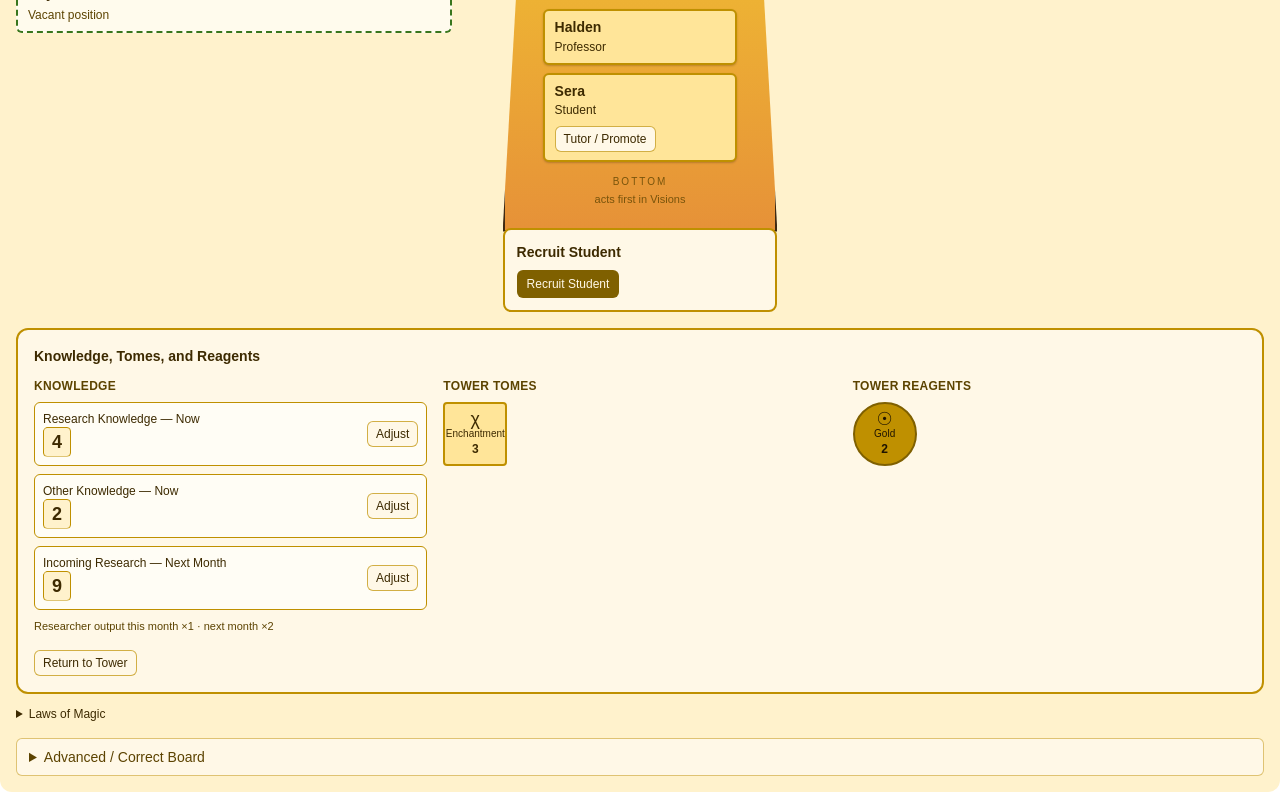
it: Sorcerer surface presentation › lets a Wizard return a Tome or Reagent the Tower does not hold
Later steps or results of the test are not shown.
(page scrolled)
What coordinates should you click on to do the following:
click the button "Return to Tower"
I would click on:
 (85, 663)
Its box is [34,650,136,676].
(page scrolled)
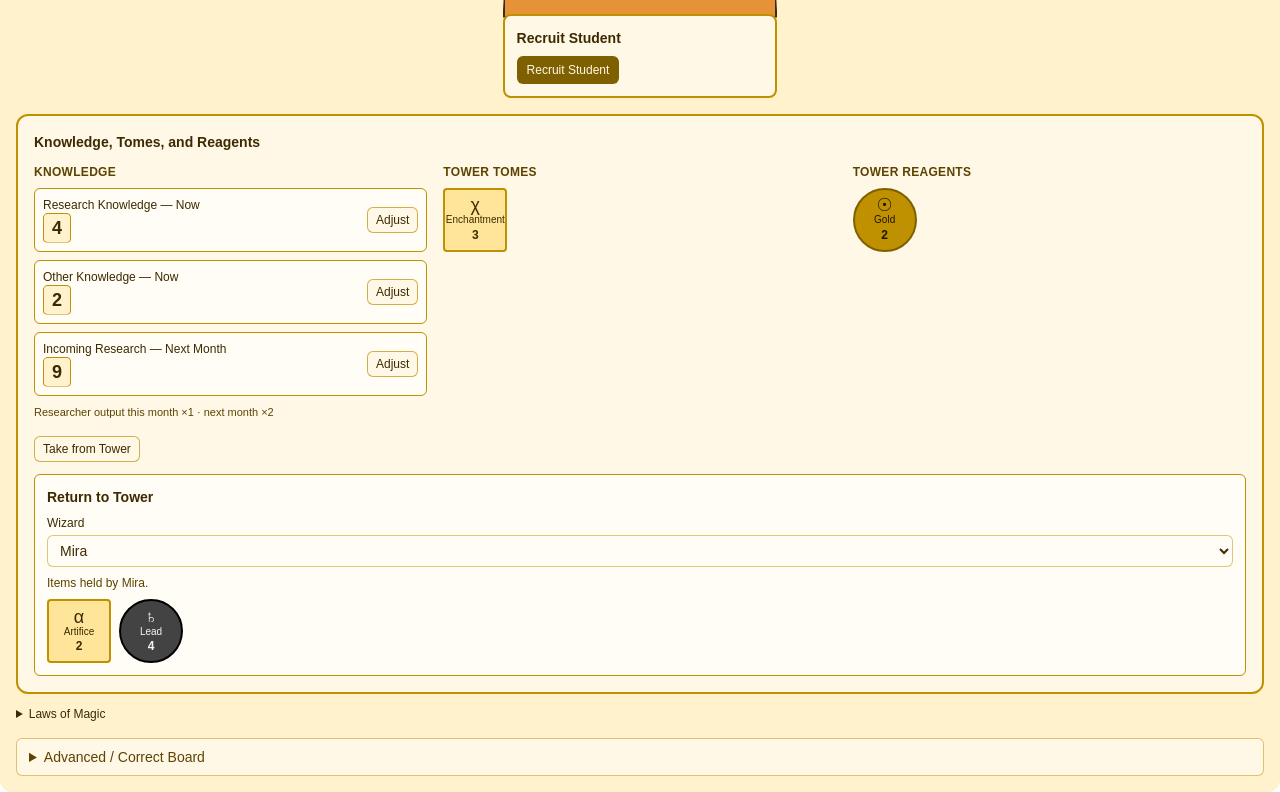
expect the button "χ Enchantment 3" is shown: met, box [443,188,507,252]
expect the button with aria-label "Artifice tome, 2 held by Mira" is shown: met, box [47,599,111,663]
expect the button with aria-label "Lead reagent, 4 held by Mira" is shown: met, box [119,599,183,663]
